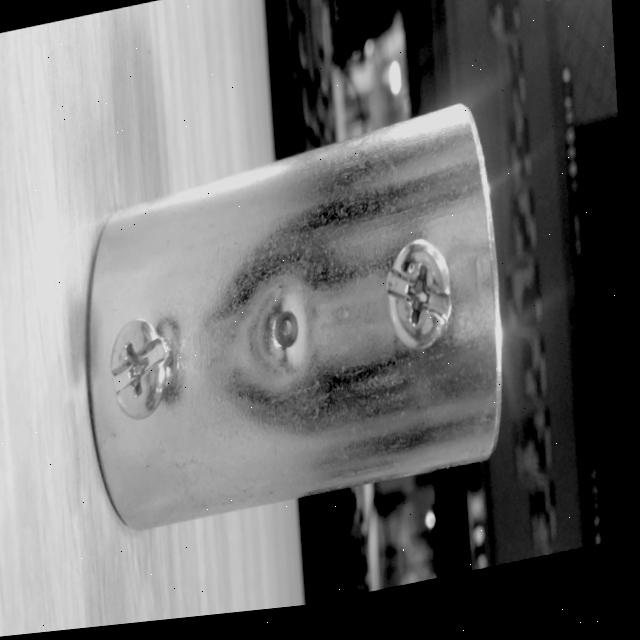Co_Nho: (43, 100, 542, 534)
